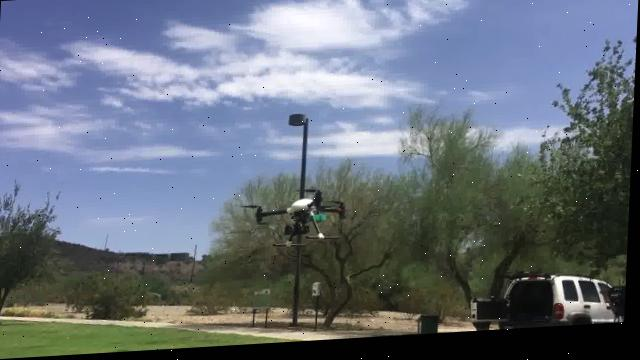drone: (255, 188, 349, 251)
